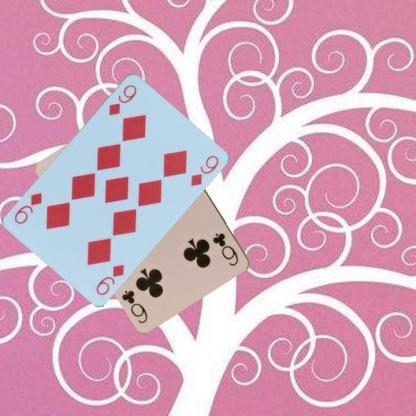6c: (210, 230, 240, 267)
9d: (93, 262, 126, 296), (106, 81, 138, 116)
